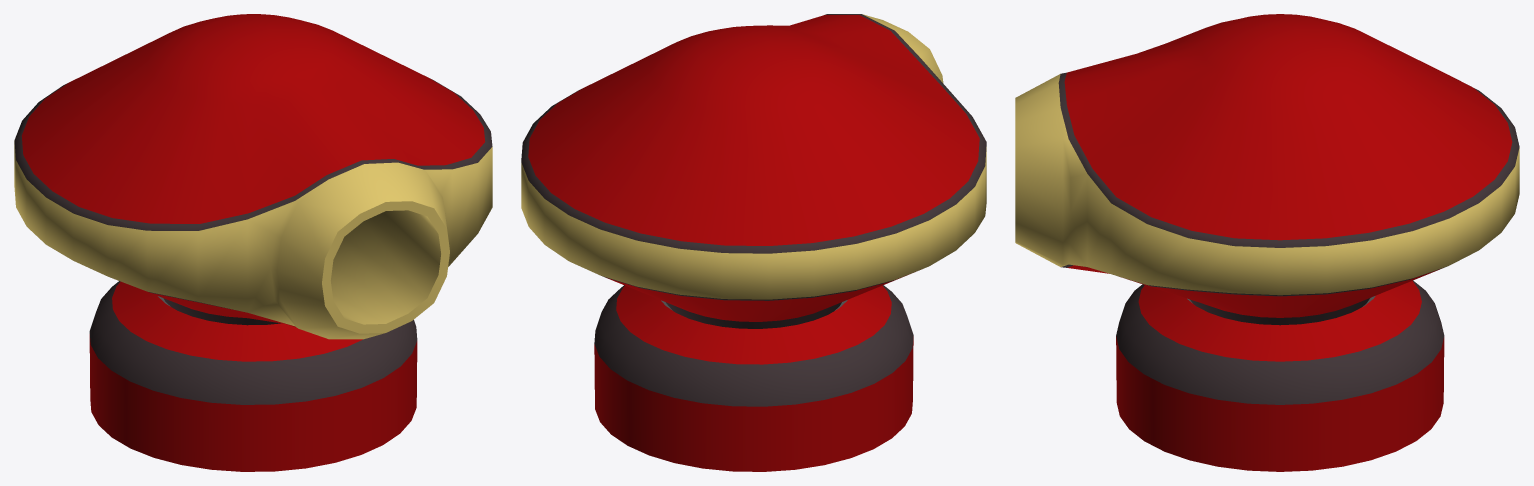
Rendered from mesh-fireturret.fbx.
3 views of the same model, side by side, from view 1: azimuth 30°, elevation 25°; view 2: azimuth 150°, elevation 25°; view 3: azimuth 270°, elevation 25° (orthographic). The views are drawn at different scales.
Parts seen in each view (by area): view 1: CannonTurret, CannonBase; view 2: CannonTurret, CannonBase; view 3: CannonTurret, CannonBase.
Part boxes in pixels (x1=…): CannonTurret: x1=14, y1=14, x2=492, y2=339; CannonBase: x1=89, y1=281, x2=417, y2=471; CannonTurret: x1=521, y1=14, x2=986, y2=328; CannonBase: x1=594, y1=285, x2=913, y2=471; CannonTurret: x1=1015, y1=14, x2=1519, y2=325; CannonBase: x1=1116, y1=280, x2=1444, y2=471.
Size of the model in its own units: 308 by 293 by 249.
